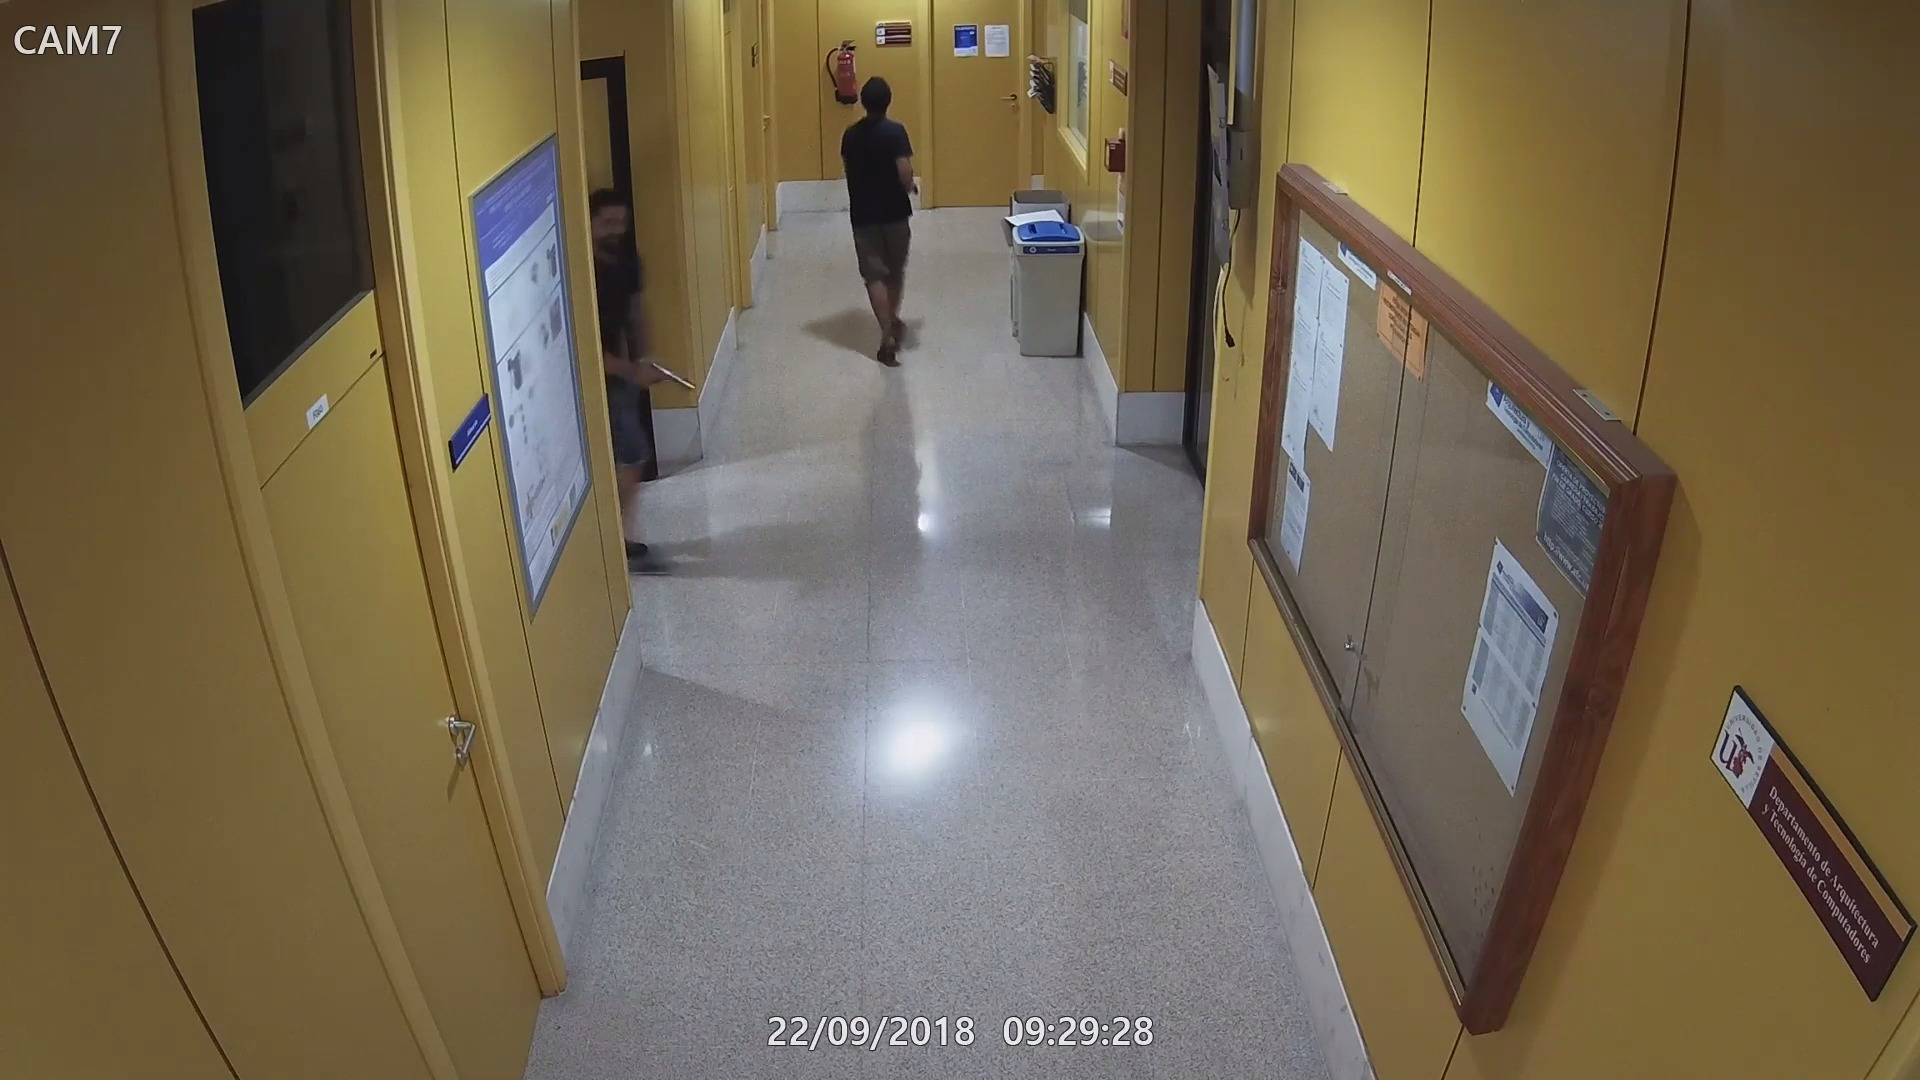Handgun: (629, 356, 700, 396)
